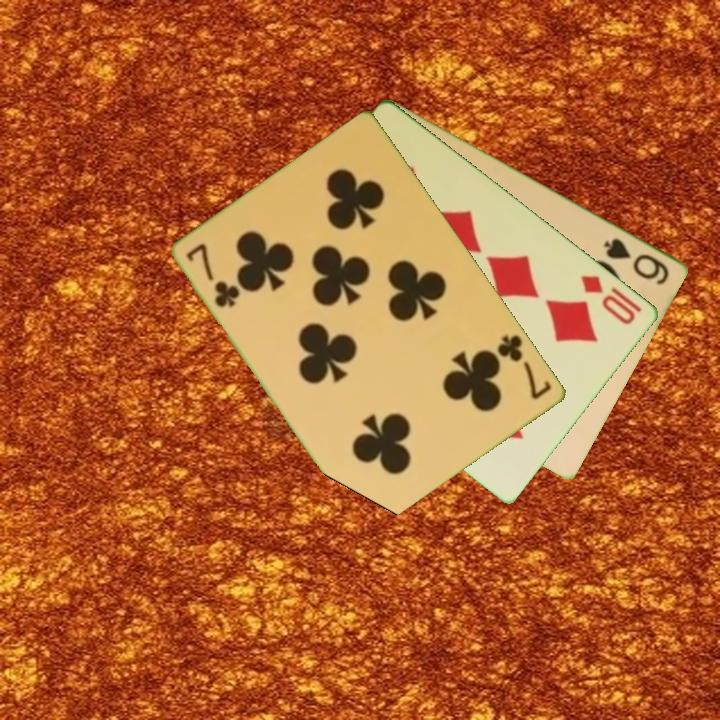10d: (577, 271, 639, 328)
6s: (600, 234, 673, 288)
7c: (494, 331, 555, 403), (183, 239, 243, 311)
